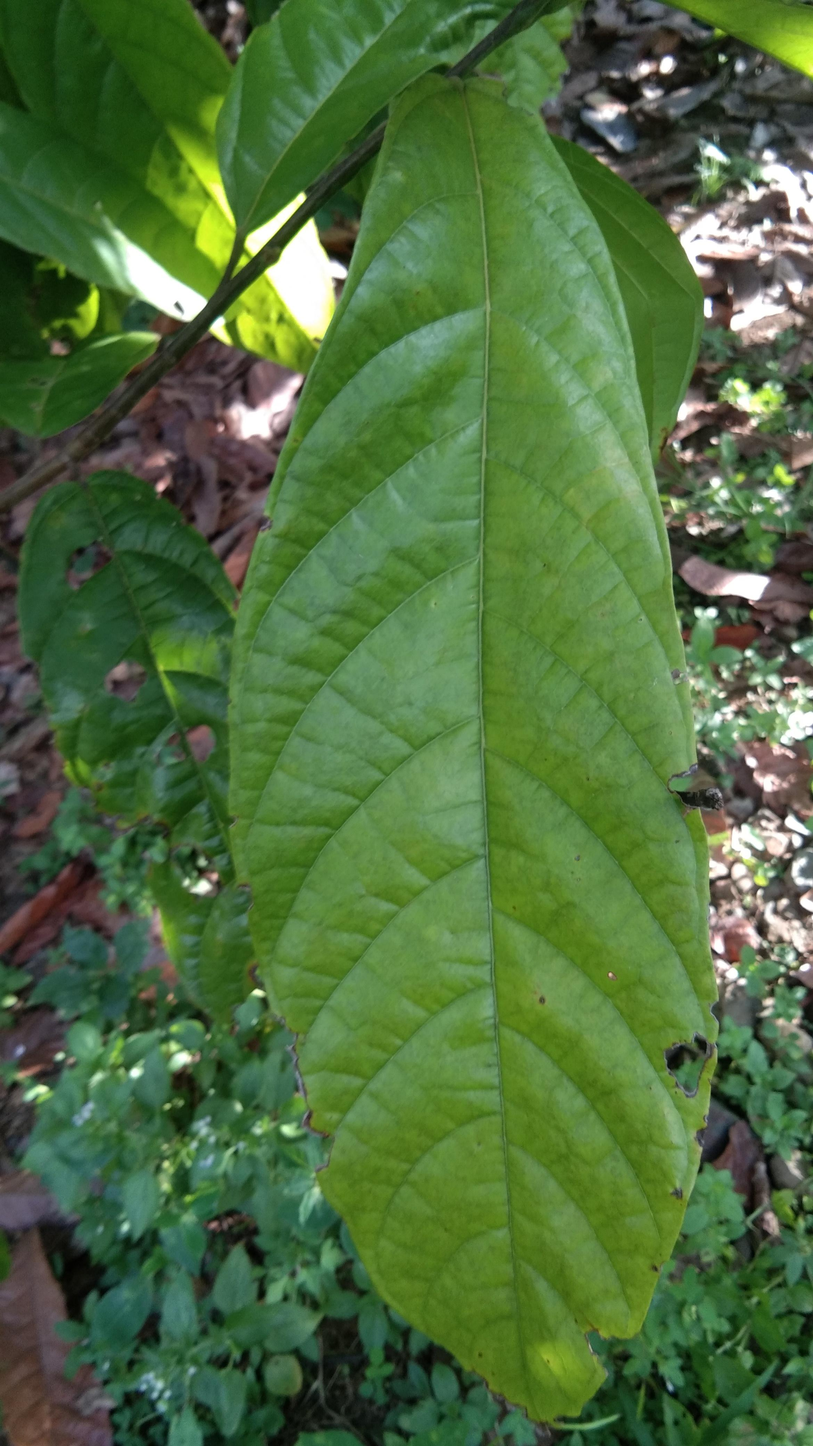deficiencia_potasio: (233, 70, 719, 1425)
